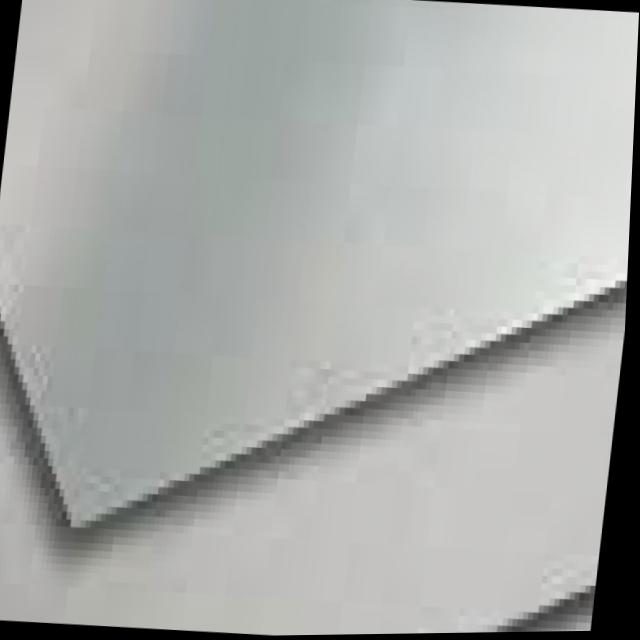metal-plates: (1, 1, 640, 637)
